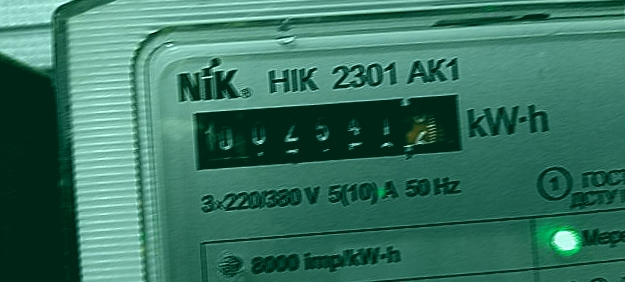0: (247, 113, 268, 147), (216, 121, 235, 151)
1: (374, 103, 392, 137)
2: (278, 110, 301, 146)
4: (344, 106, 362, 138)
5: (312, 111, 330, 144)
6: (411, 125, 428, 147)
screen: (178, 78, 482, 185)
